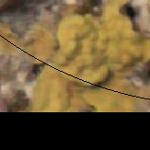alive: (2, 3, 147, 110)
